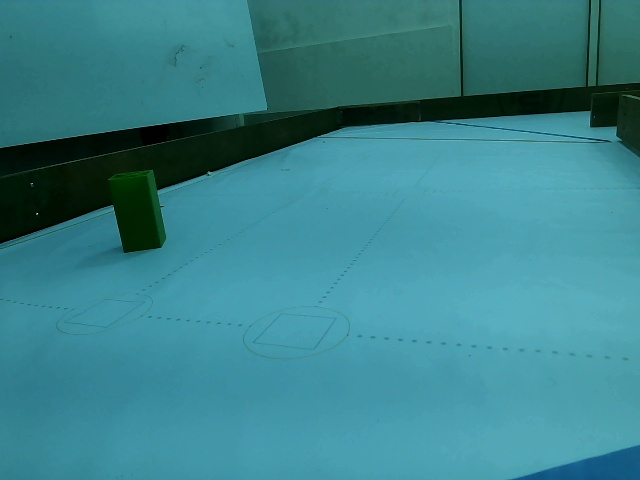green: (111, 175, 164, 245)
